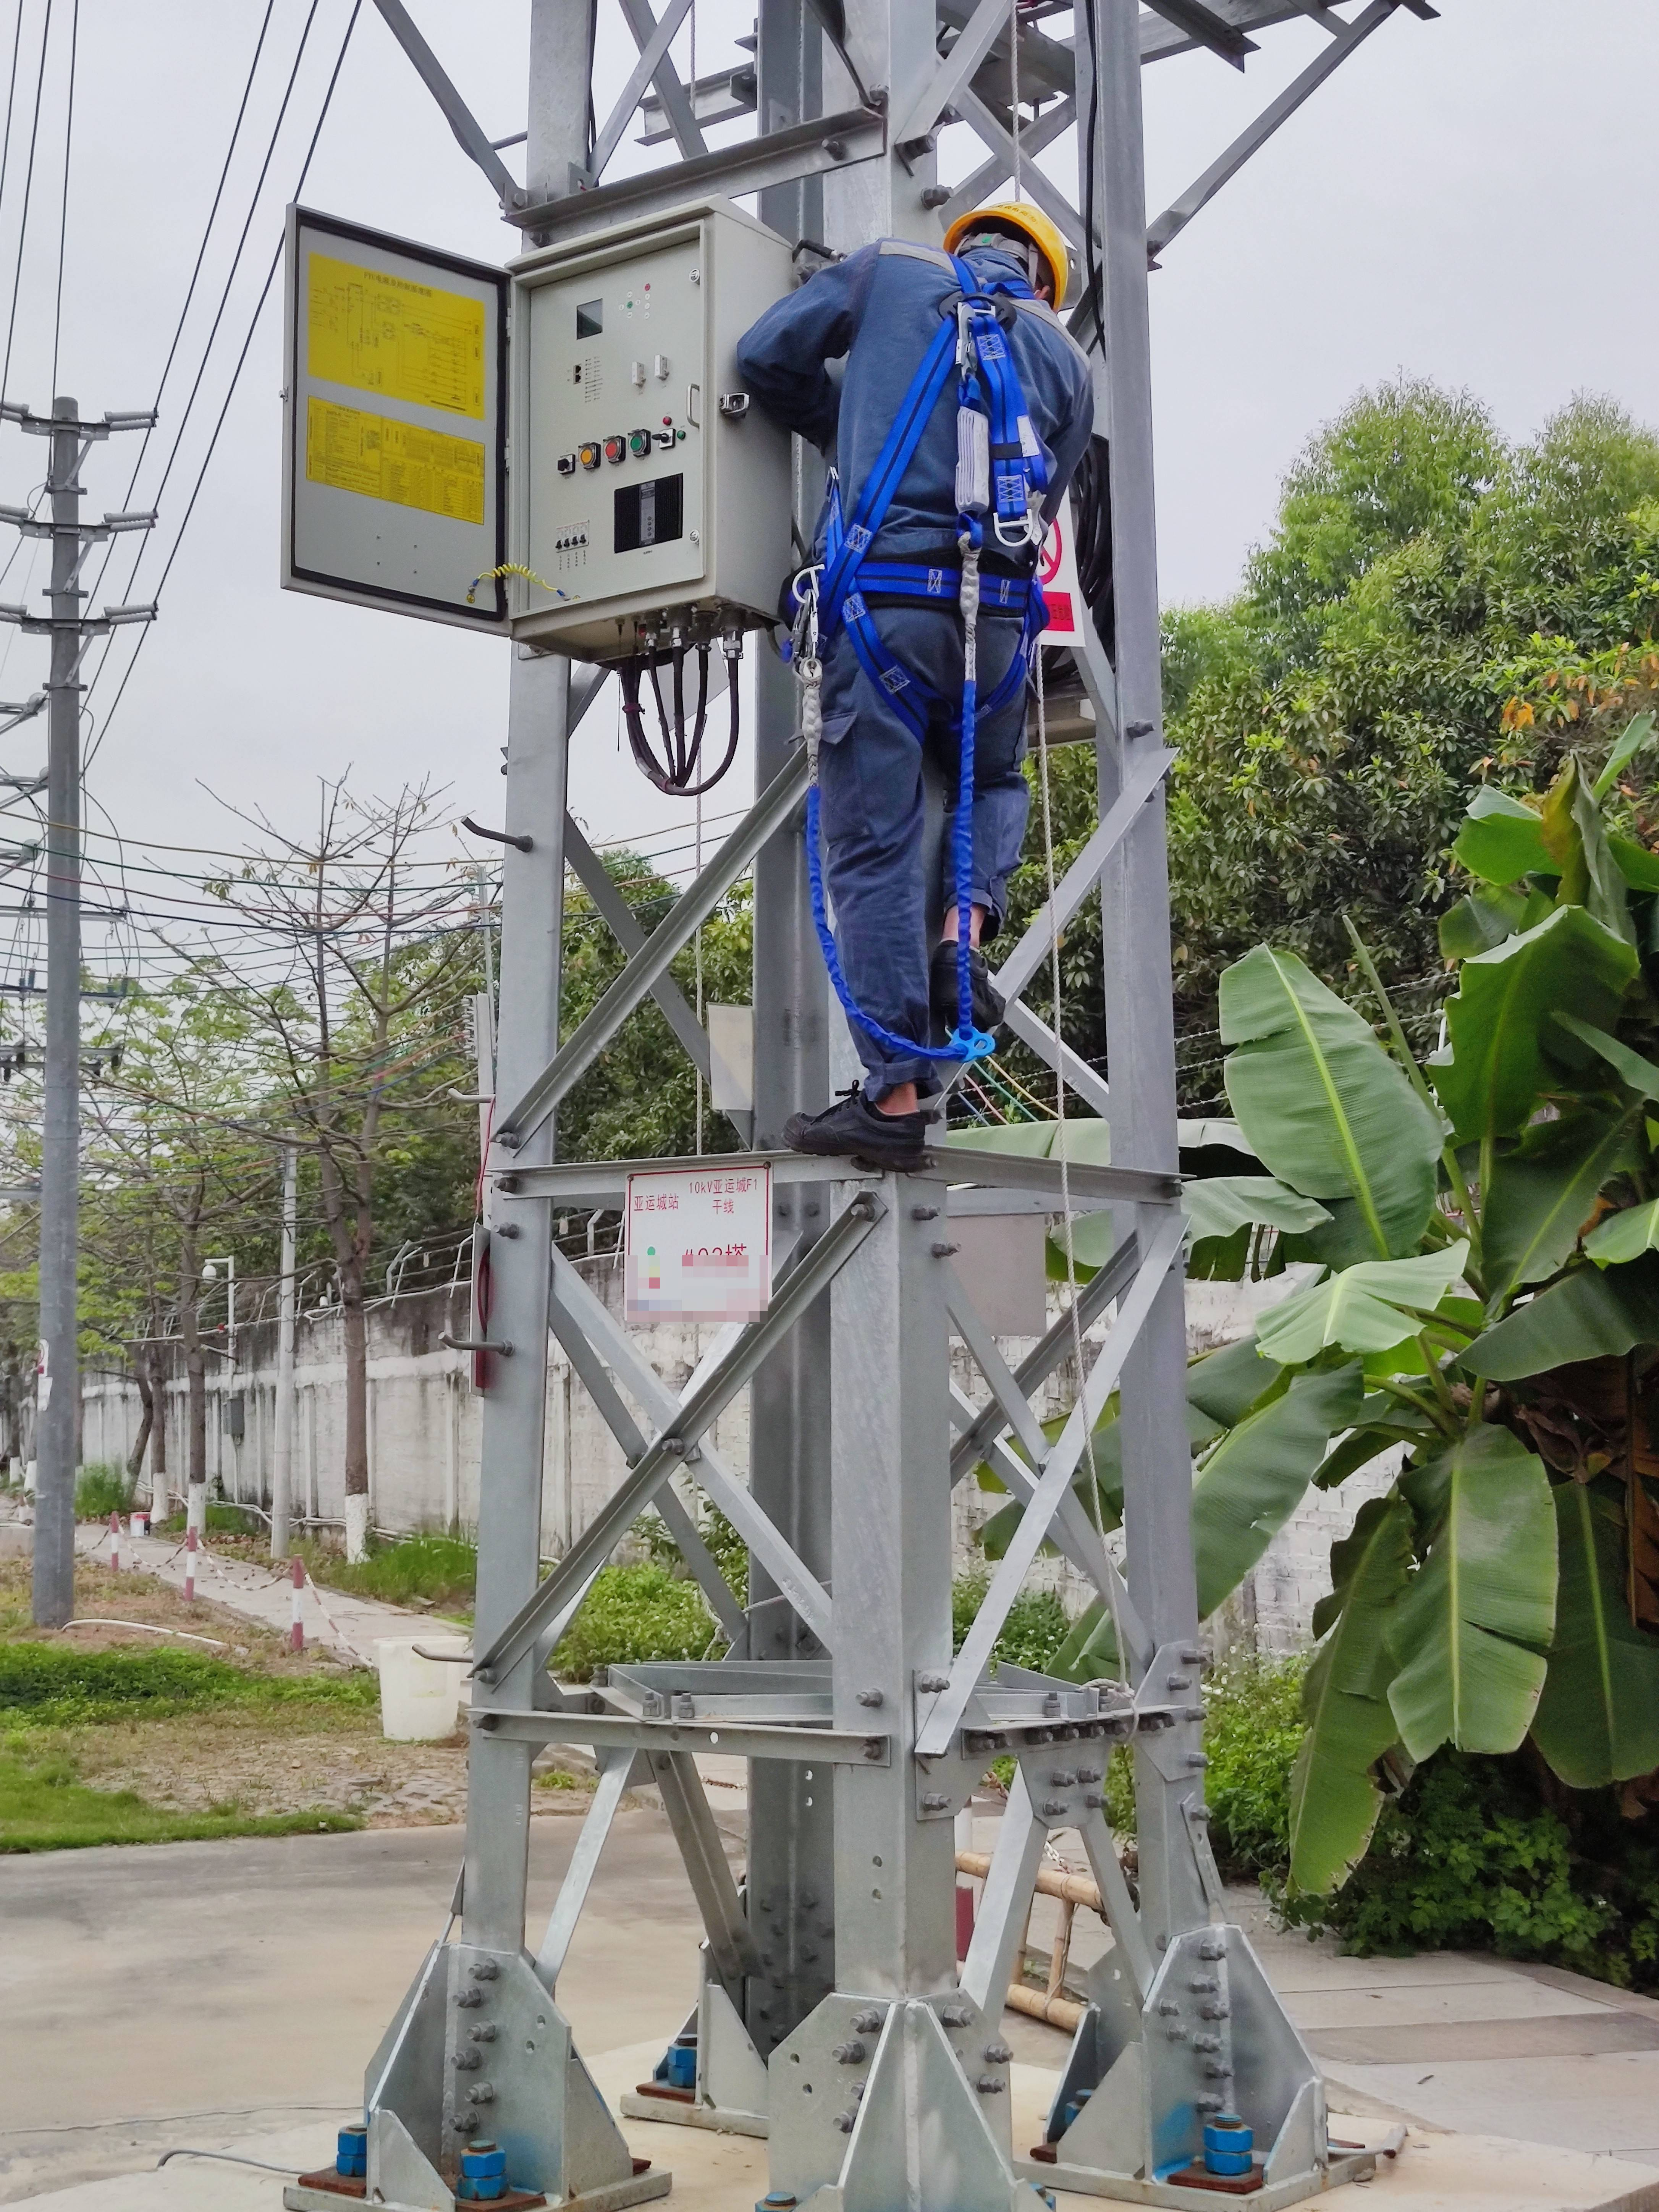downsuit: (809, 615, 1033, 1087)
upsuit: (739, 237, 1098, 603)
